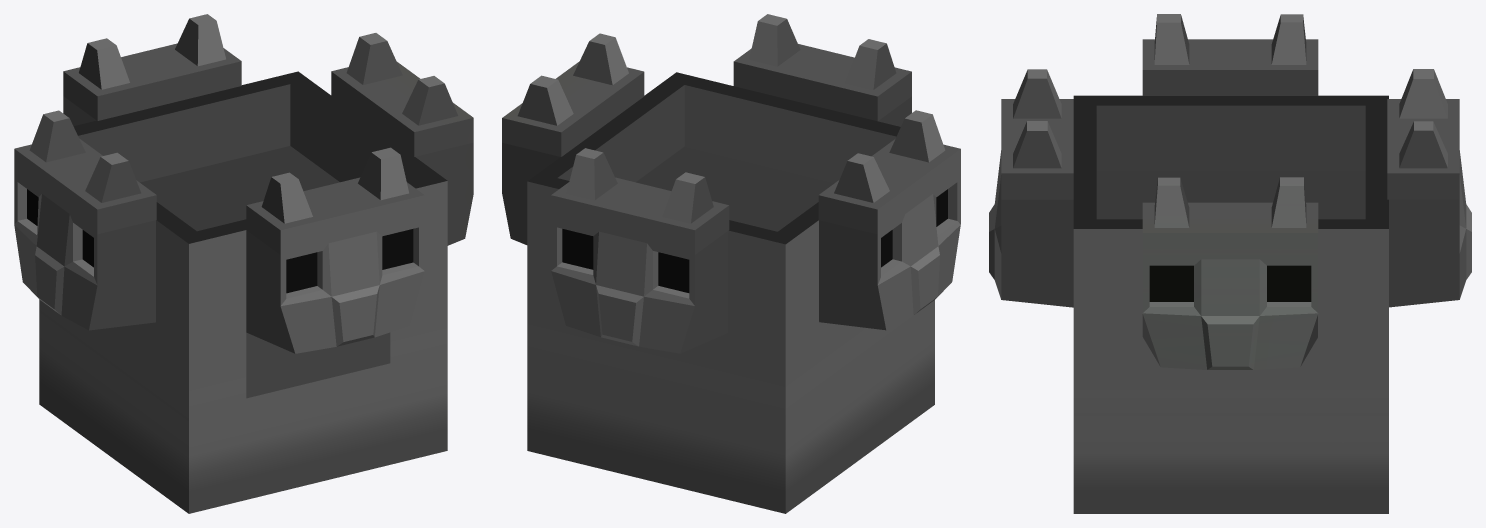
File: Vaso3Templo.glb
The picture shows the model from 3 angles, left to right: view 1: azimuth 30°, elevation 25°; view 2: azimuth 150°, elevation 25°; view 3: azimuth 270°, elevation 25°; orthographic projection. The views are drawn at different scales.
Parts seen in each view (by area): view 1: Vaso3Templo; view 2: Vaso3Templo; view 3: Vaso3Templo.
Part boxes in pixels (x1,y1,x2,y2): Vaso3Templo: (14, 14, 473, 513); Vaso3Templo: (502, 14, 960, 513); Vaso3Templo: (989, 14, 1471, 513).
Size of the model in its own units: 3.06 by 2.43 by 3.06.
1 material, 1 textured.
